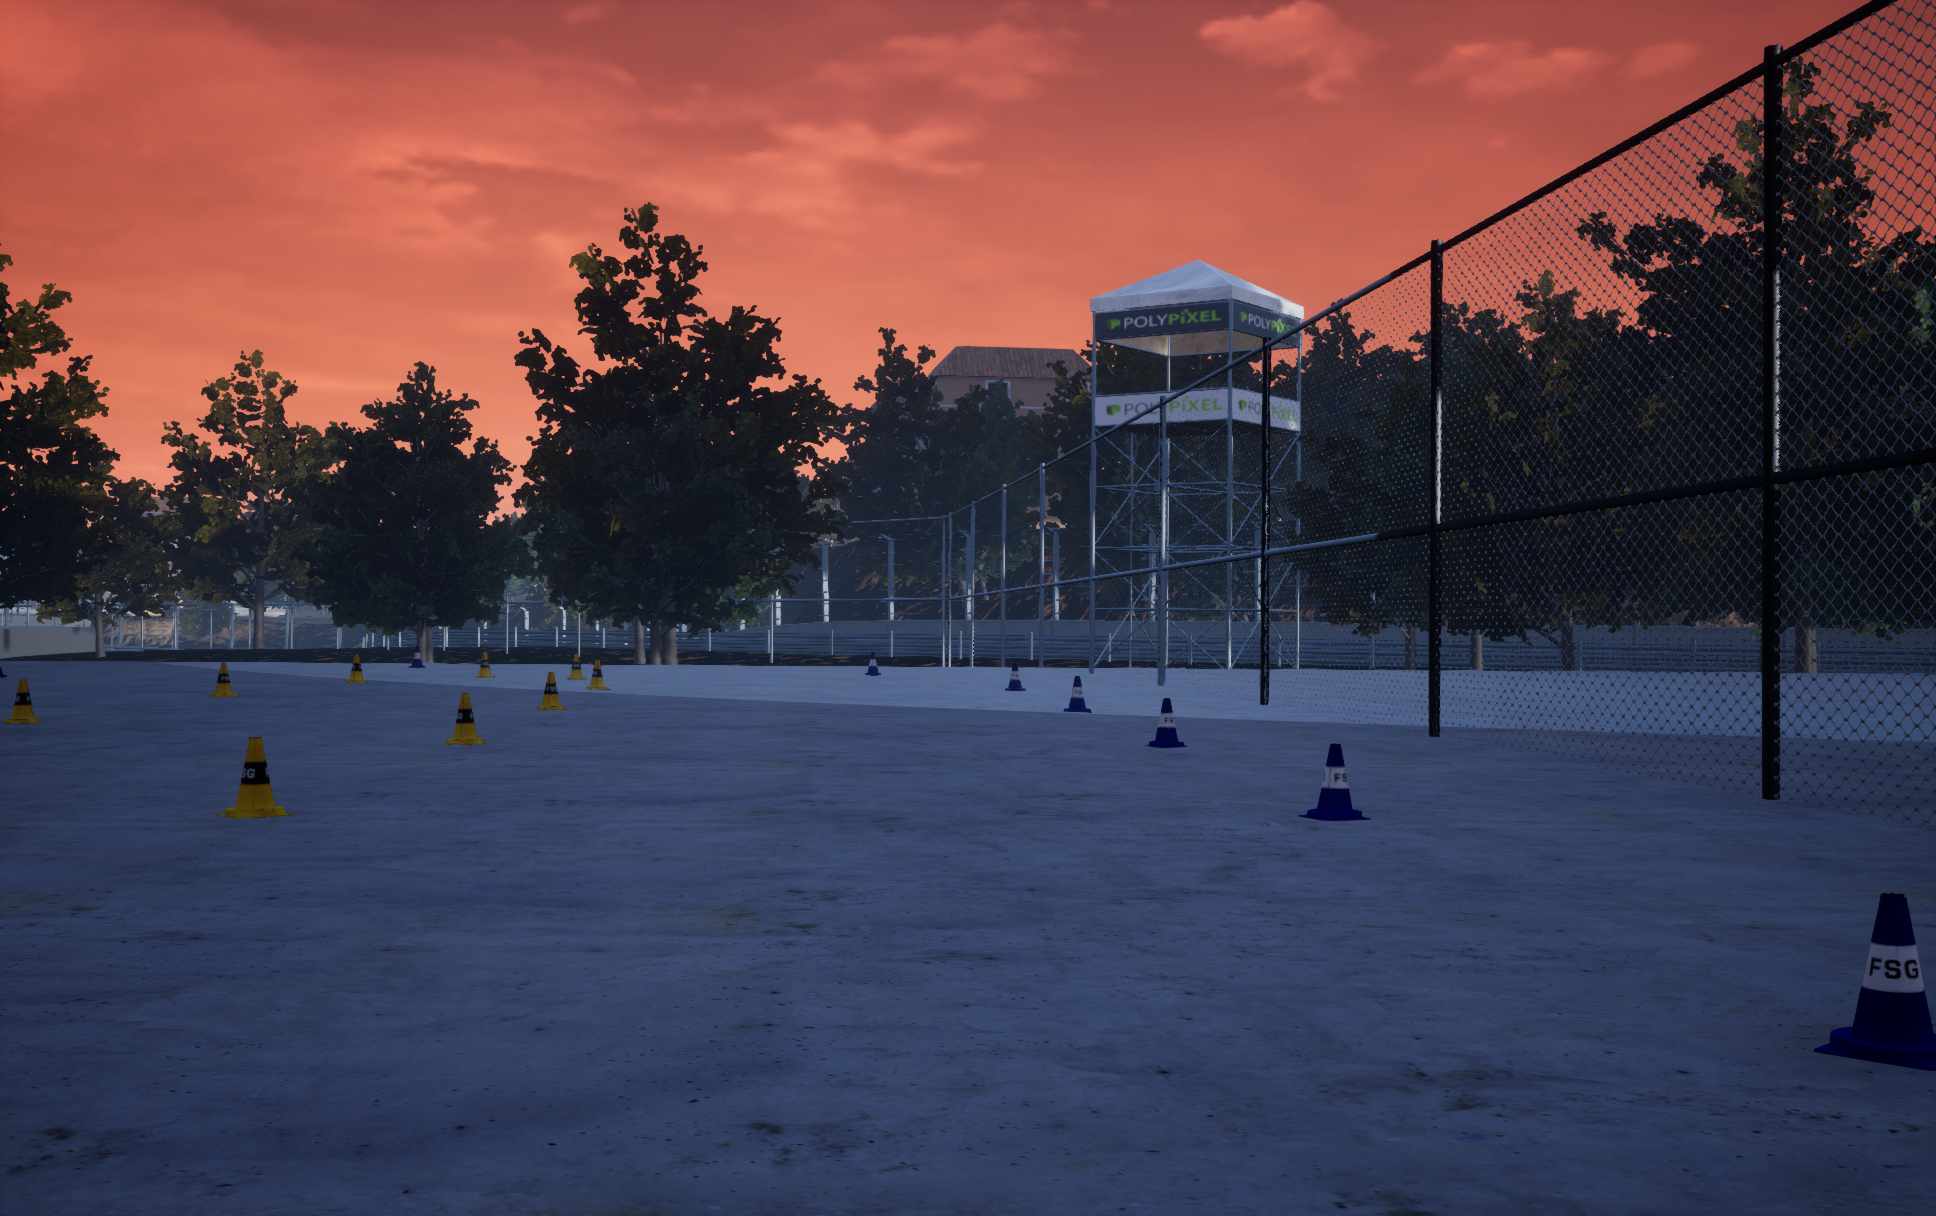blue: (216, 737, 293, 818), (444, 693, 485, 744), (4, 679, 41, 723), (537, 672, 567, 709), (210, 663, 240, 698), (586, 658, 609, 689), (346, 654, 367, 682), (566, 654, 588, 679), (475, 651, 495, 677)
yellow: (1813, 892, 1935, 1070), (1299, 742, 1370, 820), (1145, 698, 1187, 747), (1063, 677, 1091, 712), (1004, 663, 1025, 691), (864, 651, 880, 675), (408, 646, 424, 667)
